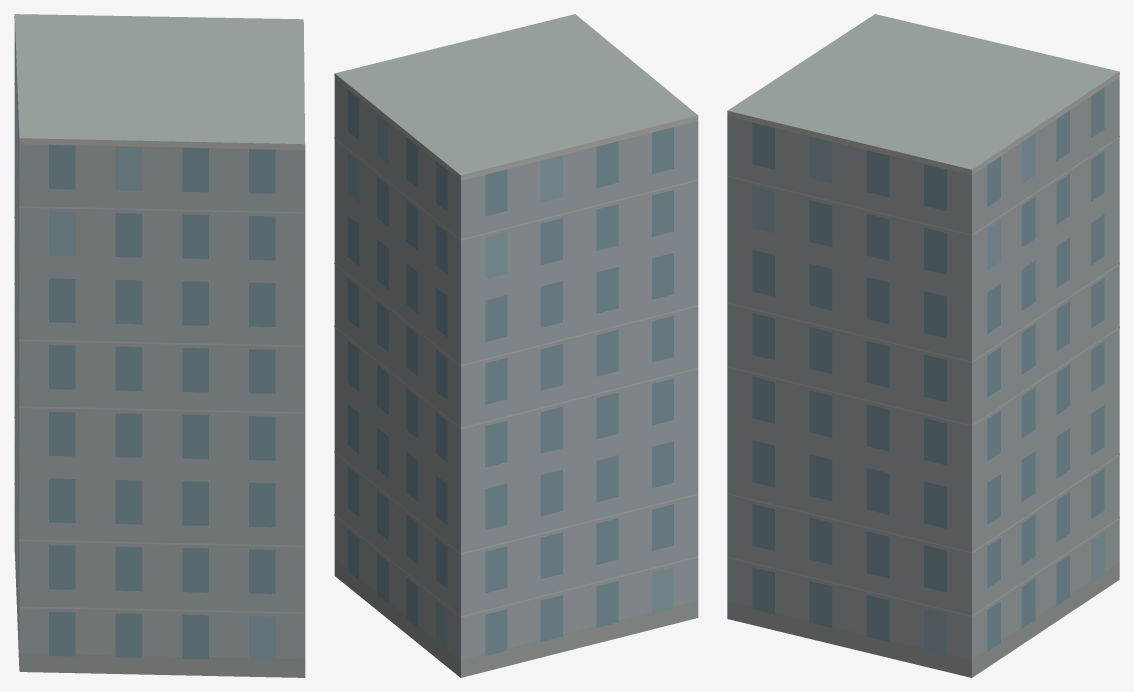
The model's file is survey-upis-32747396.glb.
3 views of the same model, side by side, from view 1: azimuth 30°, elevation 25°; view 2: azimuth 150°, elevation 25°; view 3: azimuth 270°, elevation 25° (orthographic). The views are drawn at different scales.
Parts seen in each view (by area): view 1: survey-upis-32747396.tmp; view 2: survey-upis-32747396.tmp; view 3: survey-upis-32747396.tmp.
Part boxes in pixels (x1,y1,x2,y2): survey-upis-32747396.tmp: (14, 14, 305, 677); survey-upis-32747396.tmp: (334, 14, 698, 677); survey-upis-32747396.tmp: (727, 14, 1119, 677).
Bounding box in the file's own units: 14.51 × 22.05 × 15.45.
